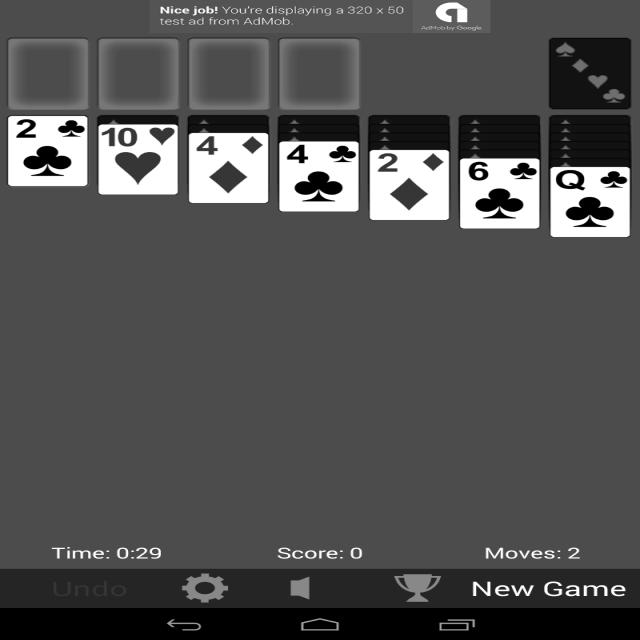ImageButton: (390, 572, 444, 604), (179, 574, 231, 604), (285, 574, 323, 600)
ImageView: (6, 40, 634, 238), (422, 2, 485, 32)
TextView: (158, 6, 403, 27), (465, 579, 630, 601), (41, 542, 170, 562), (476, 541, 589, 561), (42, 576, 136, 600), (275, 542, 377, 562)
